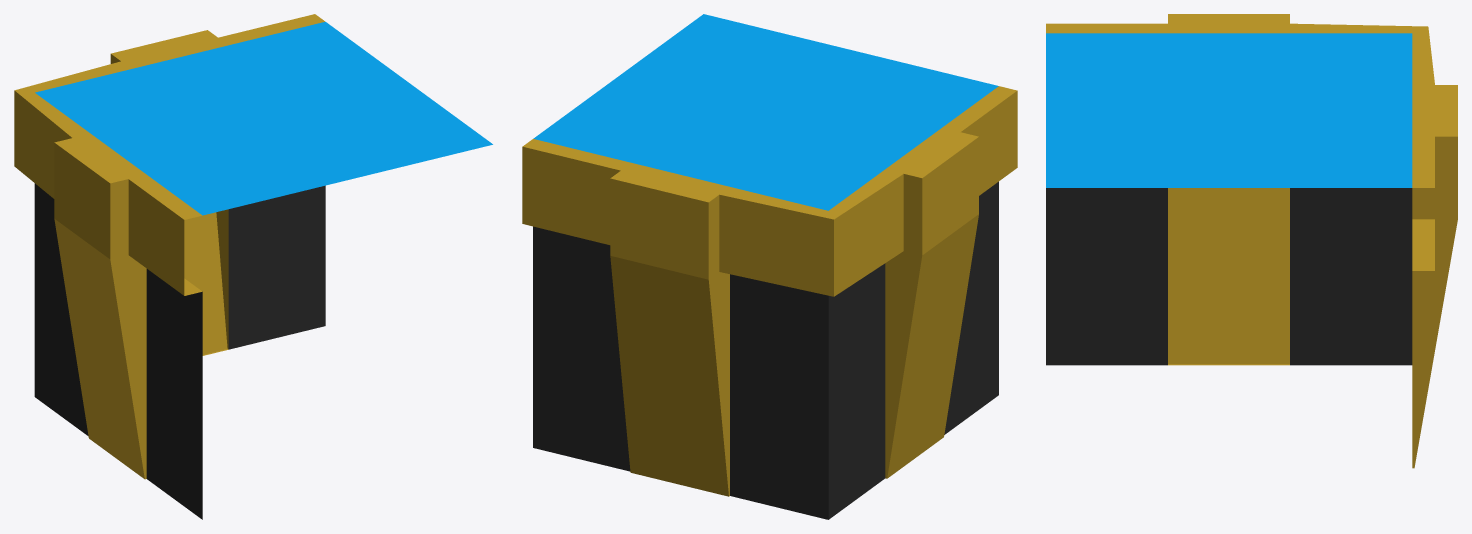
File: RoadCorner.fbx
3 views of the same model, side by side, from view 1: azimuth 30°, elevation 25°; view 2: azimuth 150°, elevation 25°; view 3: azimuth 270°, elevation 25° (orthographic). The views are drawn at different scales.
Parts seen in each view (by area): view 1: mesh; view 2: mesh; view 3: mesh.
Boxes of the visible parts, bbox=[...] form: mesh: bbox=[14, 14, 492, 519]; mesh: bbox=[522, 14, 1017, 519]; mesh: bbox=[1046, 14, 1457, 468].
Bounding box in the file's own units: 112 × 100 × 112.
1 material, 1 textured.
